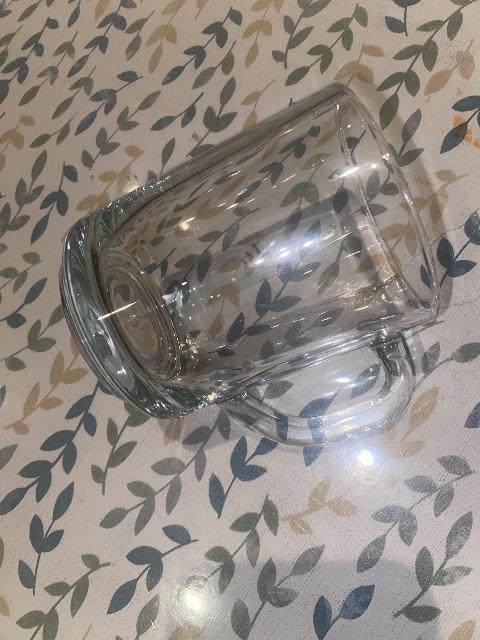Cam: (57, 87, 437, 444)
